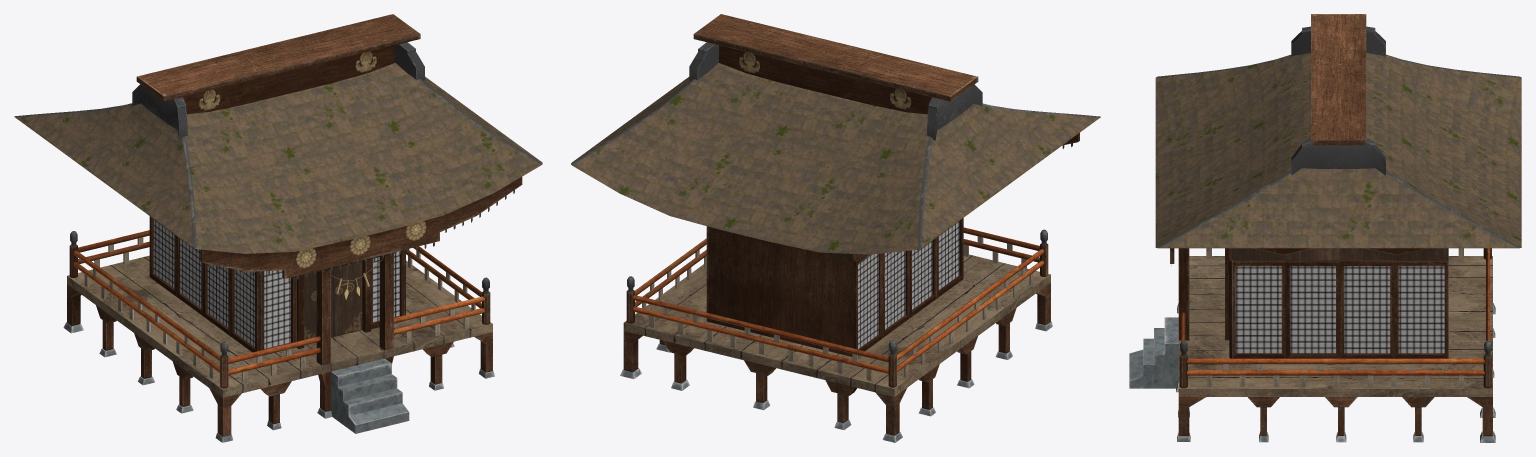
File: casita_opt.glb
3 views of the same model, side by side, from view 1: azimuth 30°, elevation 25°; view 2: azimuth 150°, elevation 25°; view 3: azimuth 270°, elevation 25° (orthographic).
Parts seen in each view (by area): view 1: japanhouse; view 2: japanhouse; view 3: japanhouse.
Boxes of the visible parts, left/top/right/bottom form: japanhouse: left=14, top=14, right=542, bottom=442; japanhouse: left=571, top=14, right=1100, bottom=442; japanhouse: left=1129, top=14, right=1521, bottom=442.
Bounding box in the file's own units: 14.6 × 11.82 × 14.1.
Materials: 1 (1 with a texture image).
